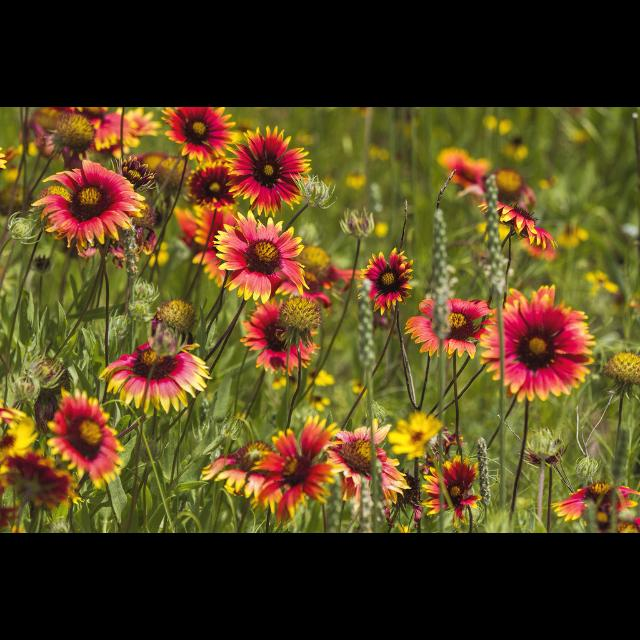Flower: (198, 416, 406, 520), (29, 153, 189, 270), (176, 205, 360, 303), (439, 144, 585, 258), (484, 294, 598, 411), (98, 340, 210, 416), (226, 126, 312, 214), (47, 390, 121, 490), (30, 108, 160, 158), (240, 298, 316, 376), (402, 296, 492, 358), (1, 450, 78, 510), (160, 108, 238, 162), (550, 482, 638, 524), (356, 248, 410, 316), (423, 456, 479, 520), (187, 155, 239, 211), (386, 411, 446, 457), (0, 408, 38, 478), (604, 354, 640, 388), (588, 272, 616, 292), (307, 369, 333, 386), (307, 393, 327, 412), (1, 506, 16, 530), (1, 150, 16, 170), (270, 375, 286, 391)
